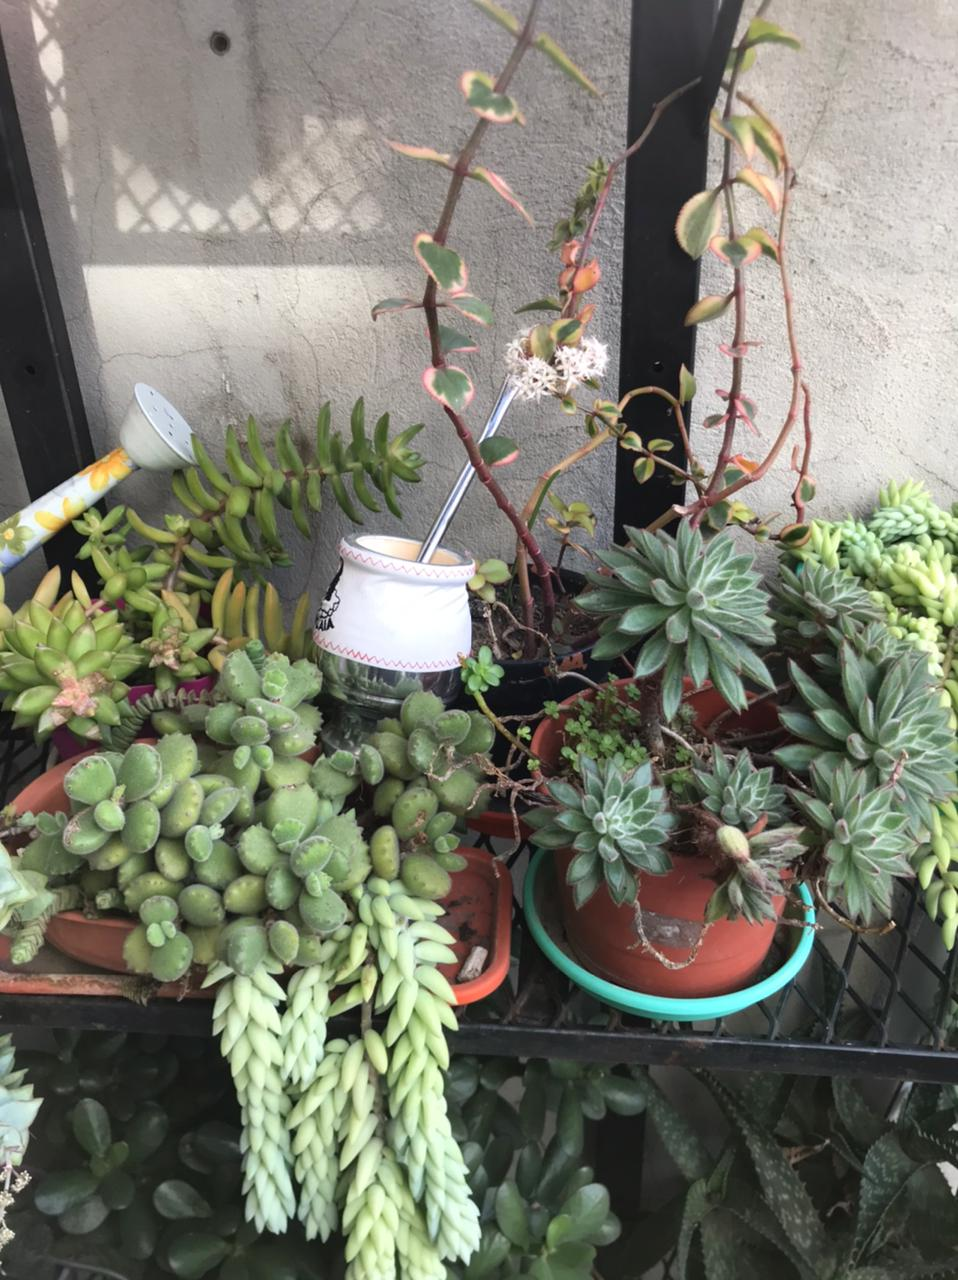mate: (308, 366, 530, 744)
